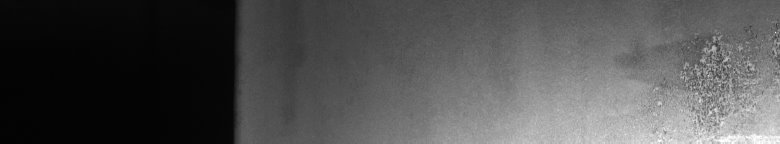hc: (653, 26, 776, 132)
